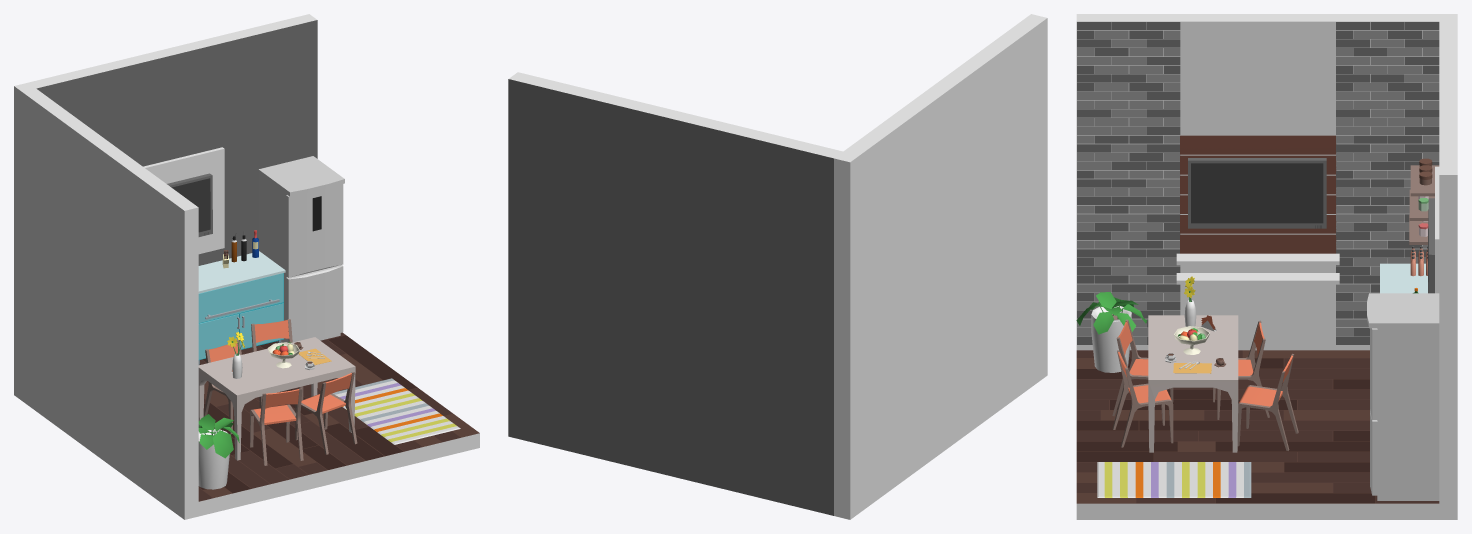
The model's file is room_22.glb.
3 views of the same model, side by side, from view 1: azimuth 30°, elevation 25°; view 2: azimuth 150°, elevation 25°; view 3: azimuth 270°, elevation 25° (orthographic). The views are drawn at different scales.
Visible parts, largest first — view 1: Walls_006.032, Walls_046.025, kitchen_item_019.001, floor_016.003, kitchen_item_049.001, kitchen_table_004.002, Walls_056.006, carpet_002.003, Walls_003.069, flower_001.001, kitchen_chair_006.004, kitchen_chair_006.003 (+4 smaller); view 2: Walls_046.025, Walls_006.032; view 3: Walls_006.032, floor_016.003, wall_021.002, wall_021.001, kitchen_item_019.001, electronics_034.004, Walls_046.025, Walls_056.006, wall_006.002, kitchen_table_004.002, carpet_002.003, flower_001.001 (+12 smaller).
Part boxes in pixels (x1,y1,x2,y2): Walls_006.032: (14,82,198,519); Walls_046.025: (28,14,317,265); kitchen_item_019.001: (258,156,344,342); floor_016.003: (198,332,479,501); kitchen_item_049.001: (198,251,285,365); kitchen_table_004.002: (198,337,355,460); Walls_056.006: (198,335,479,516); carpet_002.003: (332,378,460,444); Walls_003.069: (143,147,224,254); flower_001.001: (198,414,239,489); kitchen_chair_006.004: (250,388,303,465); kitchen_chair_006.003: (295,372,357,454); Walls_046.025: (508,72,842,515); Walls_006.032: (834,14,1047,519); Walls_006.032: (1076,14,1457,350); floor_016.003: (1076,350,1439,503); wall_021.002: (1077,22,1180,344); wall_021.001: (1336,22,1439,344); kitchen_item_019.001: (1367,293,1439,500); electronics_034.004: (1188,158,1326,228); Walls_046.025: (1439,21,1457,519); Walls_056.006: (1076,350,1439,519); wall_006.002: (1180,135,1336,253); kitchen_table_004.002: (1148,315,1238,452); carpet_002.003: (1097,462,1251,497); flower_001.001: (1076,292,1147,372).
Bounding box in the file's own units: 4.2 × 4.2 × 4.2.
Materials: 1 (1 with a texture image).
